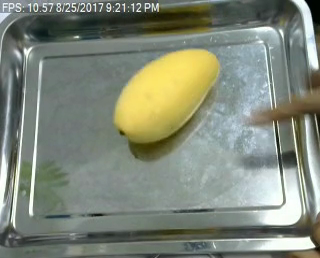Mango: (109, 45, 222, 146)
